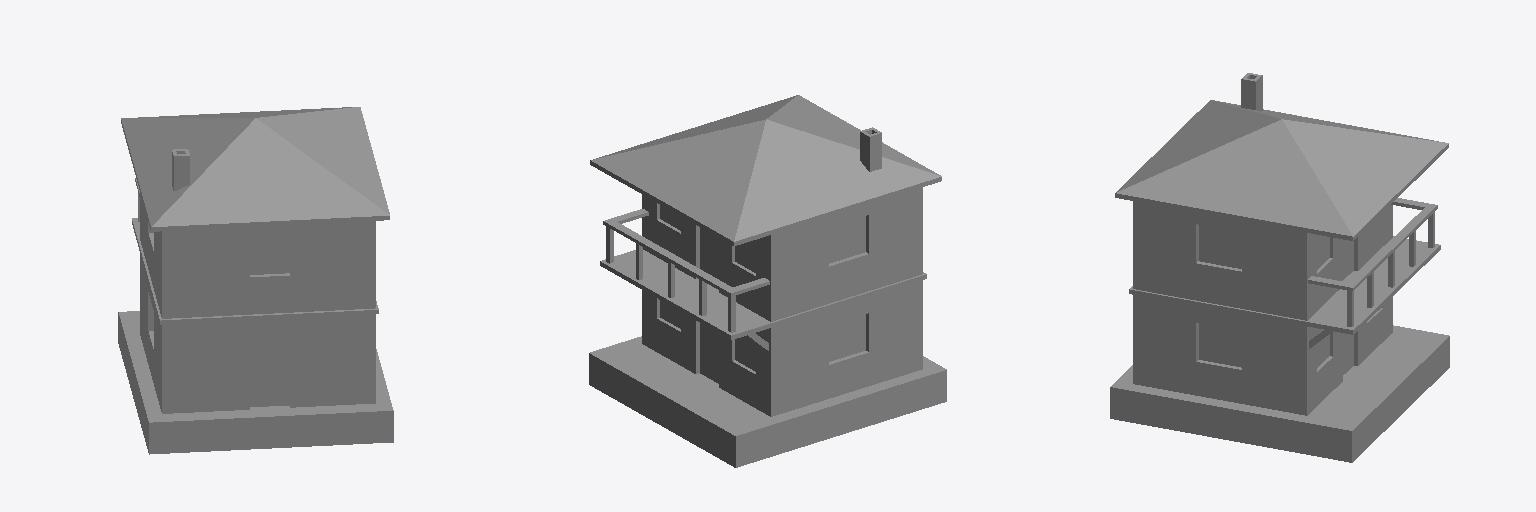
File: BuildingOBJ5.obj
3 views of the same model, side by side, from view 1: azimuth 30°, elevation 25°; view 2: azimuth 150°, elevation 25°; view 3: azimuth 270°, elevation 25° (orthographic).
Visible parts, largest first — view 1: cabin_004.007_Untitled.007; view 2: cabin_004.007_Untitled.007; view 3: cabin_004.007_Untitled.007.
Boxes of the visible parts, <box> form: cabin_004.007_Untitled.007: <box>118,107,393,454</box>; cabin_004.007_Untitled.007: <box>589,95,946,467</box>; cabin_004.007_Untitled.007: <box>1110,73,1449,462</box>.
Bounding box in the file's own units: 3.23 × 2.95 × 3.32.